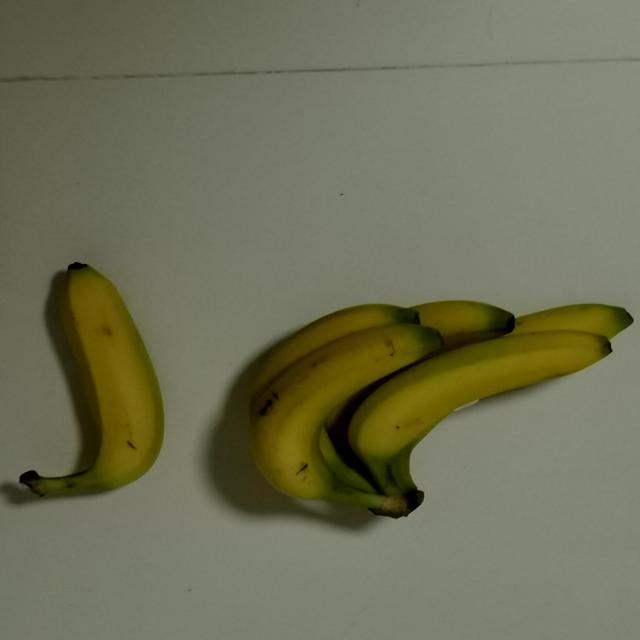Banana: (226, 287, 640, 533), (10, 253, 169, 512)
